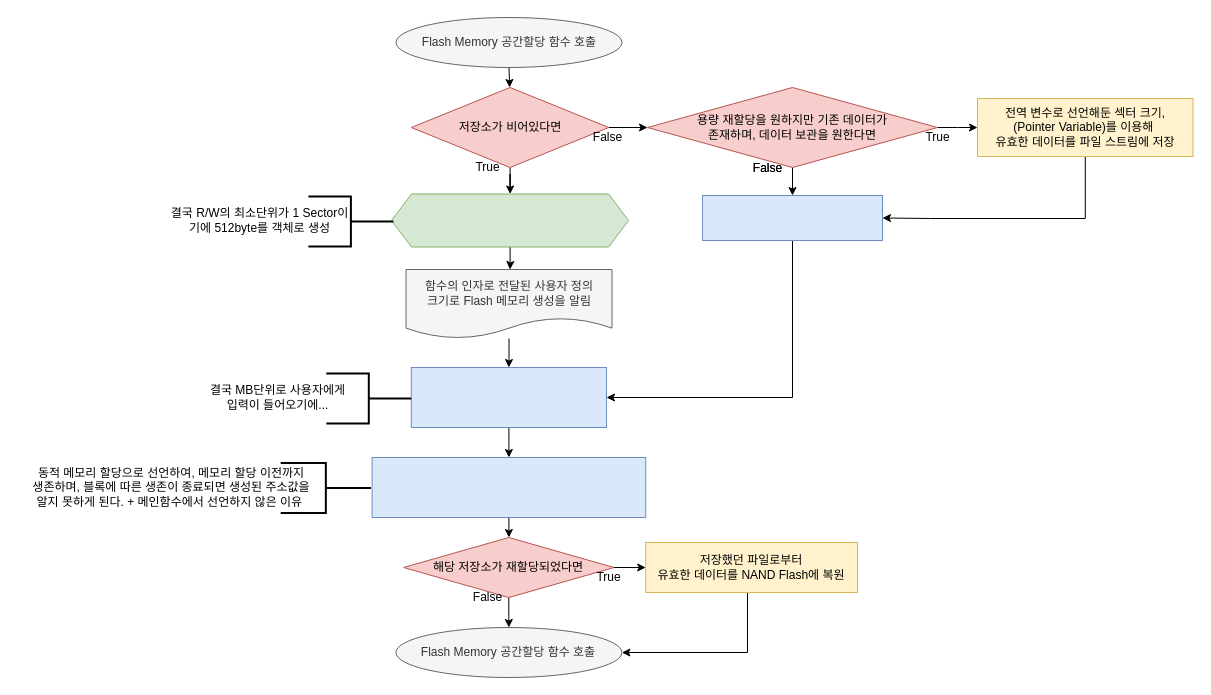
Image size: 1211x695. Some labels were removed from this diagram. Here are the shapes that lost their labels. From the top down, the box of each, then its label:
(390, 193, 629, 247): (Flash Memory Type Pointer Variable) 선언
(702, 194, 882, 240): 기존 생성시 보관한 메모리 주소를 기반으로 메모리 할당 해제
(410, 366, 606, 428): 함수의 인자 값을 참조하여, 2048배수의 동적 배열을 할당
(371, 456, 646, 518): 전역 변수로 선언한 (Flash Memory Type Pointer Variable)에 주소값 전달
